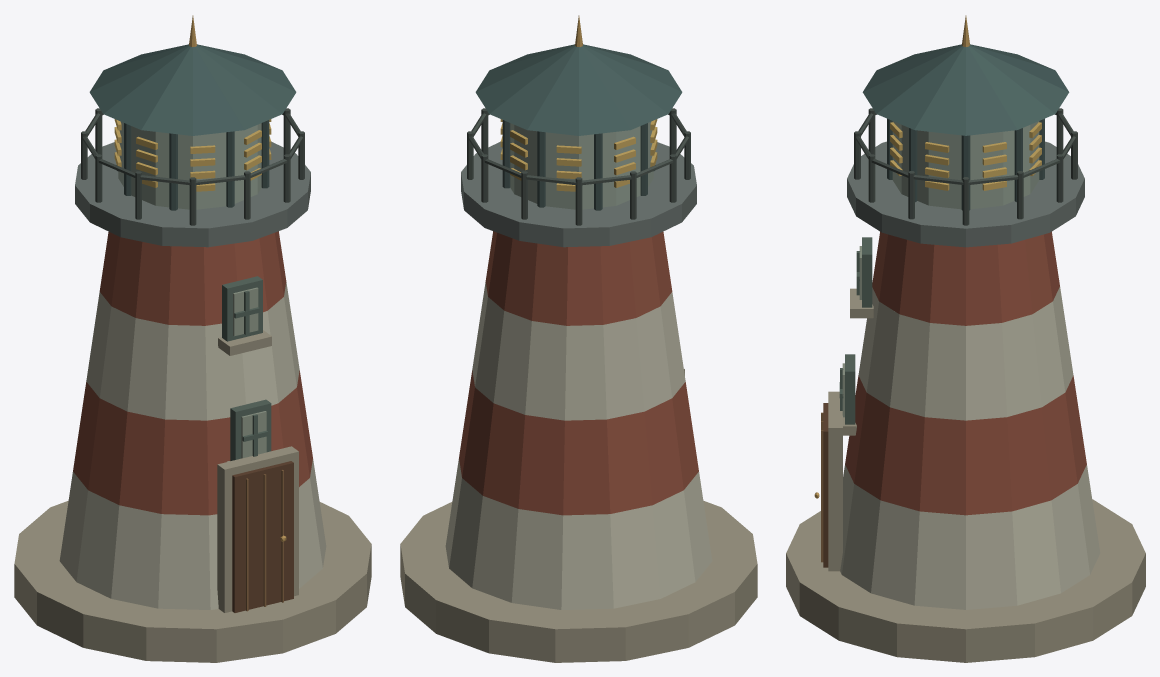
Rendered from build-lighthouse.glb.
The picture shows the model from 3 angles, left to right: view 1: azimuth 30°, elevation 25°; view 2: azimuth 150°, elevation 25°; view 3: azimuth 270°, elevation 25°; orthographic projection.
Visible parts, largest first — view 1: SculptedModel; view 2: SculptedModel; view 3: SculptedModel.
Boxes of the visible parts, x1,y1,x2,y2 form: SculptedModel: (14,15,371,662); SculptedModel: (400,15,757,662); SculptedModel: (786,15,1145,662).
Size of the model in its own units: 3.48 by 6.11 by 3.48.
